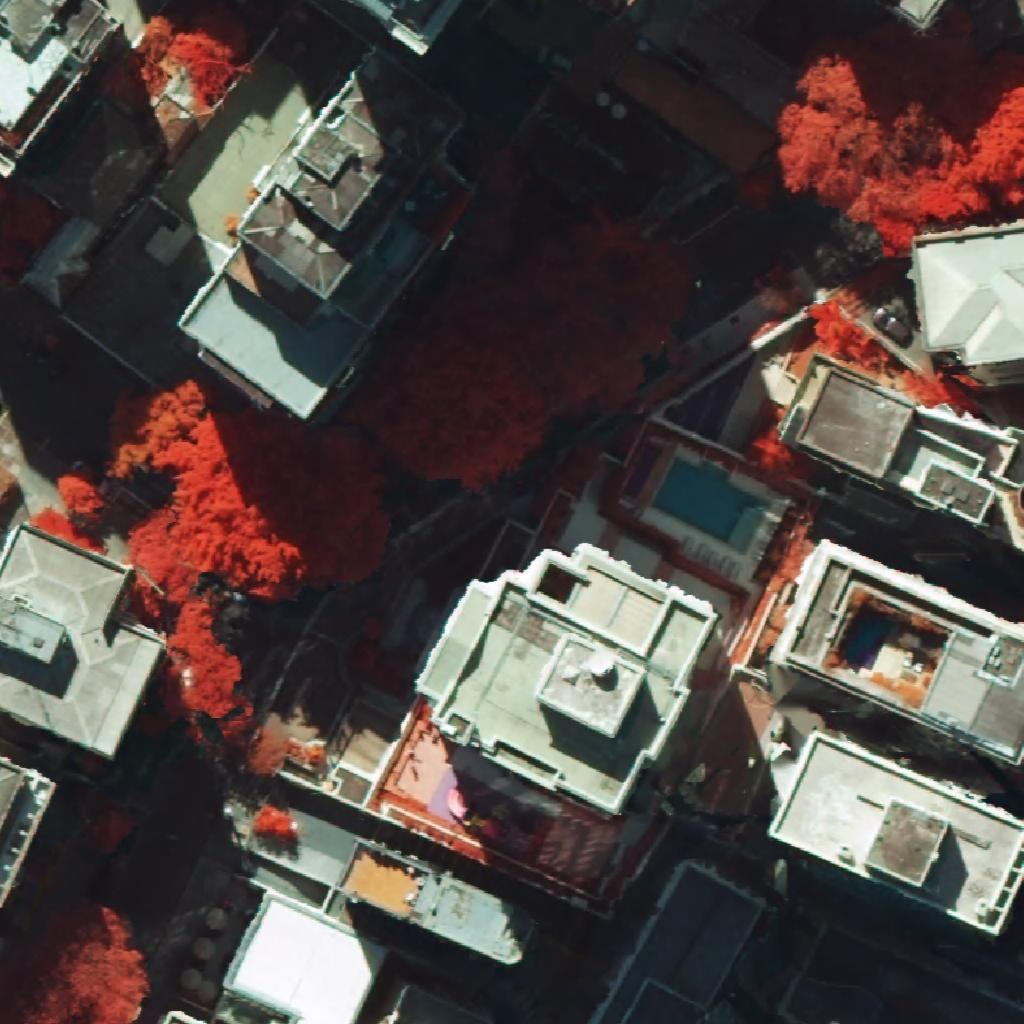pool: (652, 459, 769, 554)
